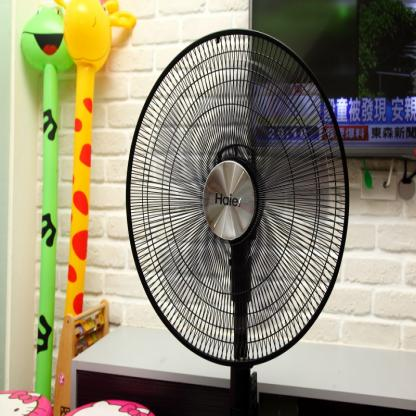fan: (116, 18, 365, 416)
